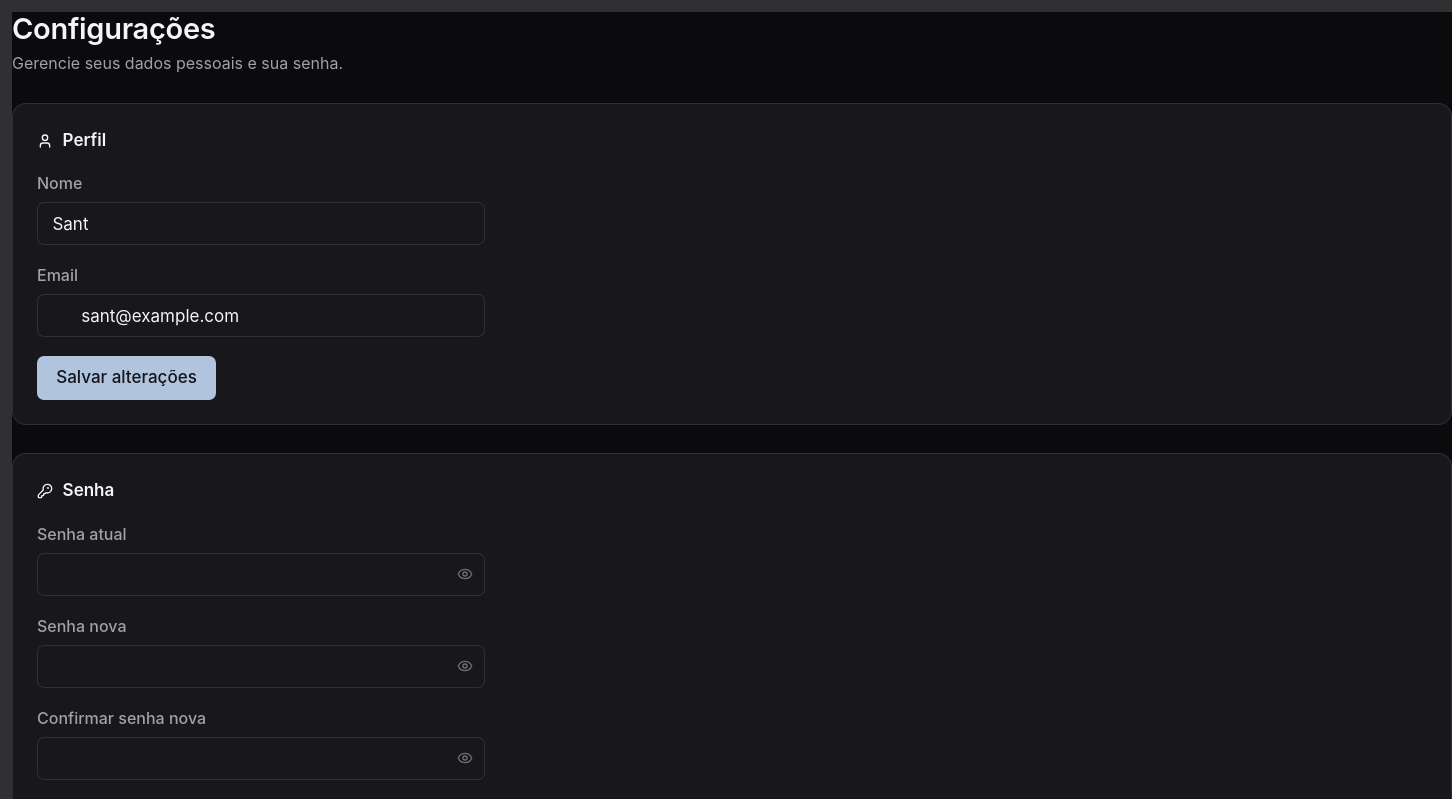
Scenario: ConfiguracoesPage › salva alterações de perfil com sucesso
Replace the text in the field labelled "Nome" with "Santiago". click: (261, 224)
box: [37,202,485,245]
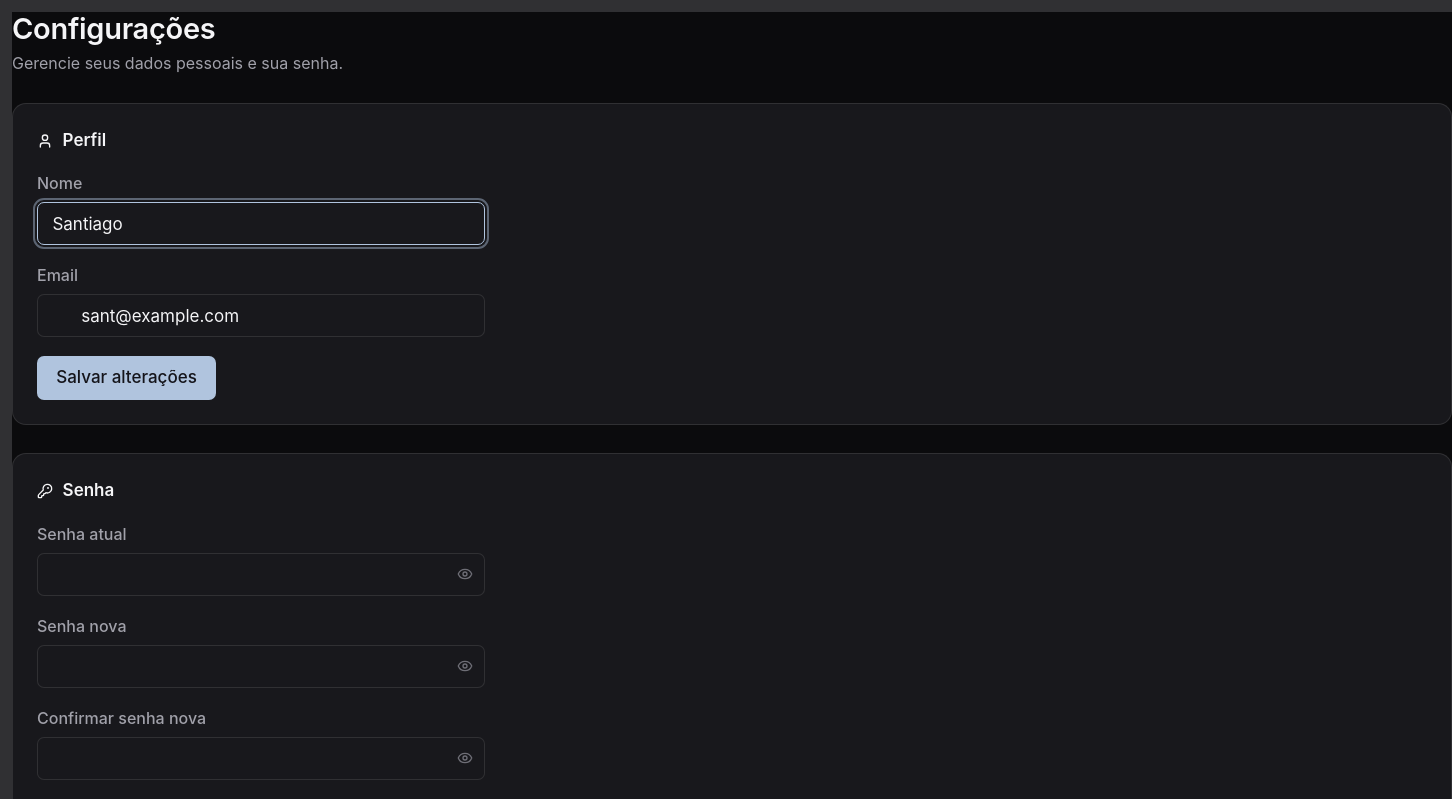
Click the button "Salvar alterações". click: click(126, 378)
box: [37,356,216,400]
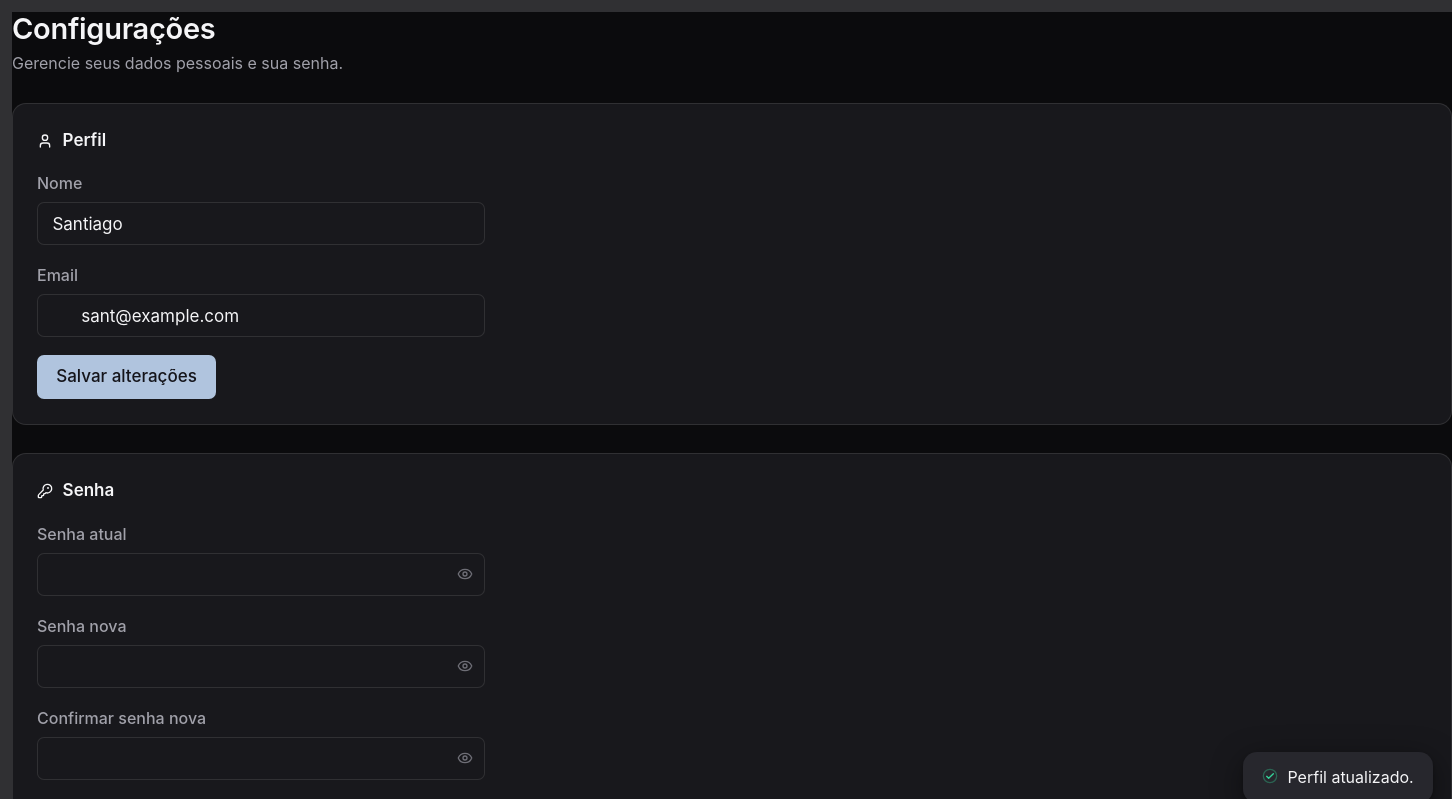
expect the text "Perfil atualizado." is shown: met, box [1288,766,1414,788]
